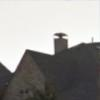chimneys: (54, 32, 68, 55)
